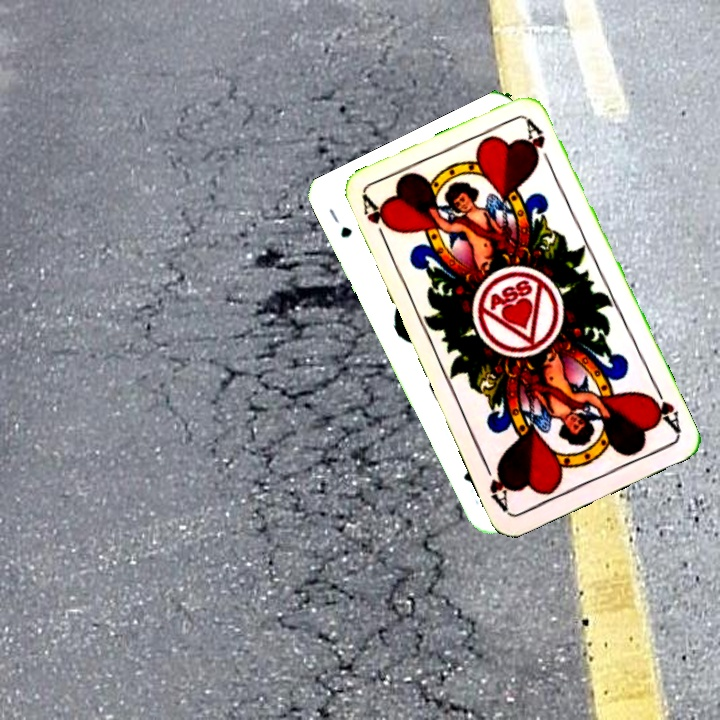GU: (324, 204, 355, 241)
HA: (642, 380, 684, 435), (358, 193, 392, 249)
